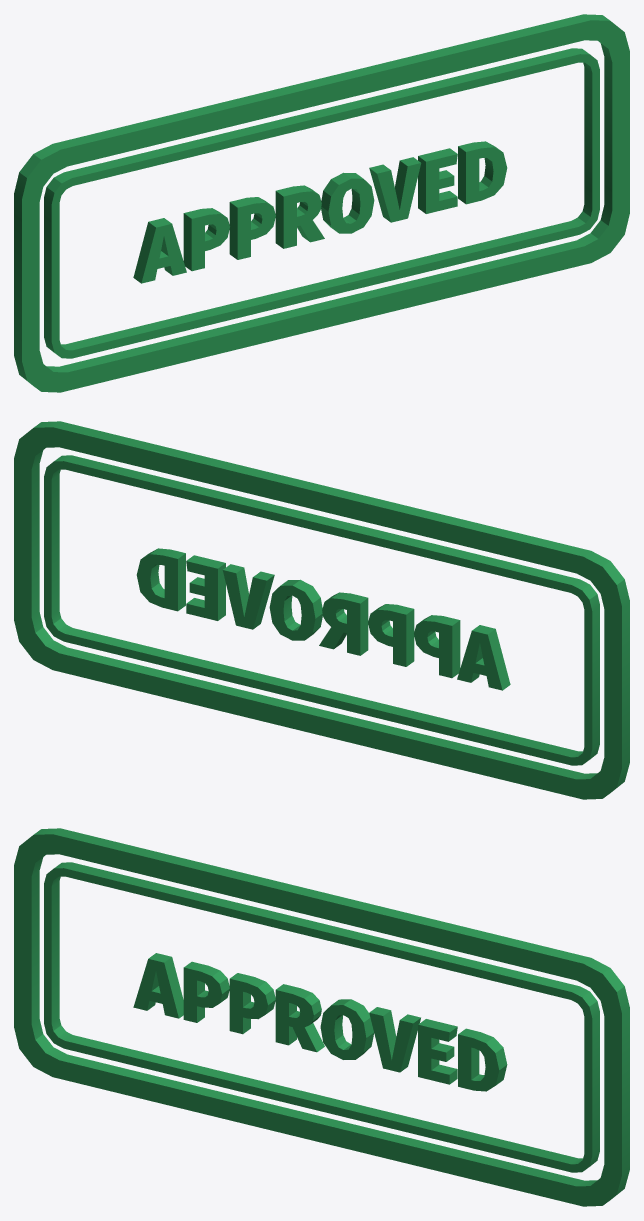
The model's file is stamp_approved.fbx.
3 views of the same model, one above another, from view 1: azimuth 30°, elevation 25°; view 2: azimuth 150°, elevation 25°; view 3: azimuth 330°, elevation 25° (orthographic).
Visible parts, largest first — view 1: StampApproved; view 2: StampApproved; view 3: StampApproved.
Boxes of the visible parts, x1,y1,x2,y2 form: StampApproved: (14,14,629,392); StampApproved: (14,421,629,799); StampApproved: (14,828,629,1206).
Bounding box in the file's own units: 0.11 × 0.042 × 0.0025.
Materials: 1 (1 with a texture image).
